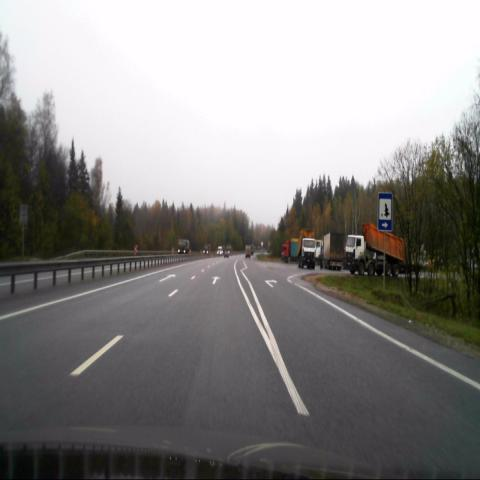7_11: (378, 193, 391, 230)
